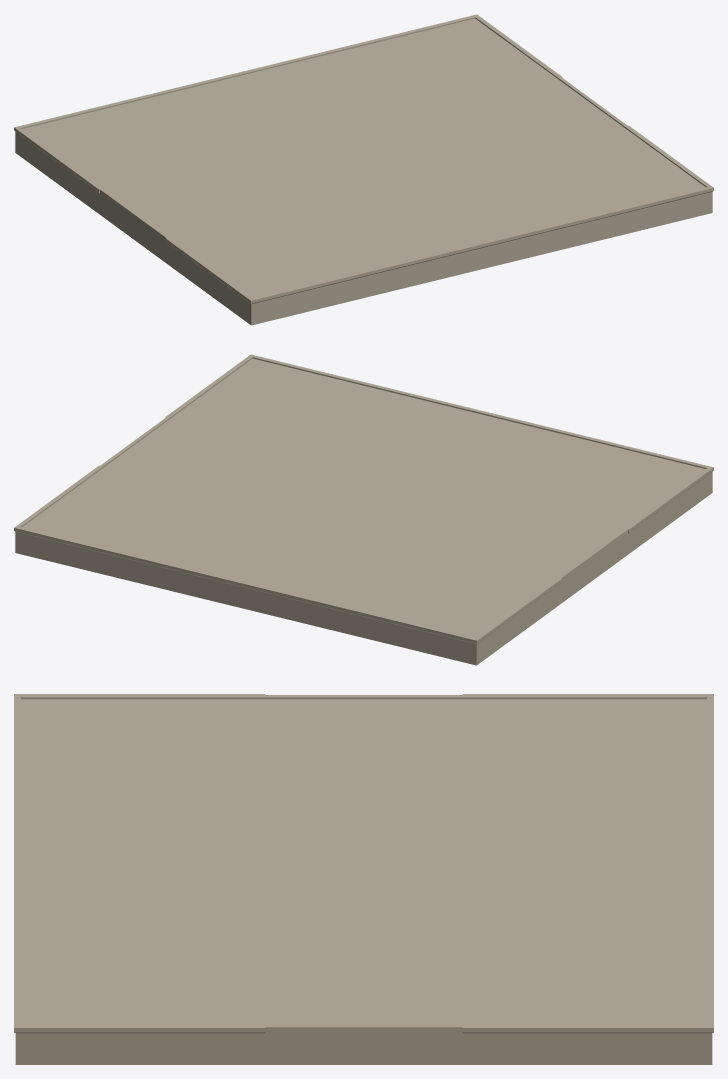
The model's file is BC_BuildingGround_A.fbx.
The picture shows the model from 3 angles, top to bottom: view 1: azimuth 30°, elevation 25°; view 2: azimuth 150°, elevation 25°; view 3: azimuth 270°, elevation 25°; orthographic projection. The views are drawn at different scales.
Visible parts, largest first — view 1: BC_BuildingGround_A; view 2: BC_BuildingGround_A; view 3: BC_BuildingGround_A.
Part boxes in pixels (x1,y1,x2,y2): BC_BuildingGround_A: [14, 14, 713, 325]; BC_BuildingGround_A: [14, 354, 713, 665]; BC_BuildingGround_A: [14, 694, 713, 1064].
Size of the model in its own units: 11057 by 579 by 9798.
